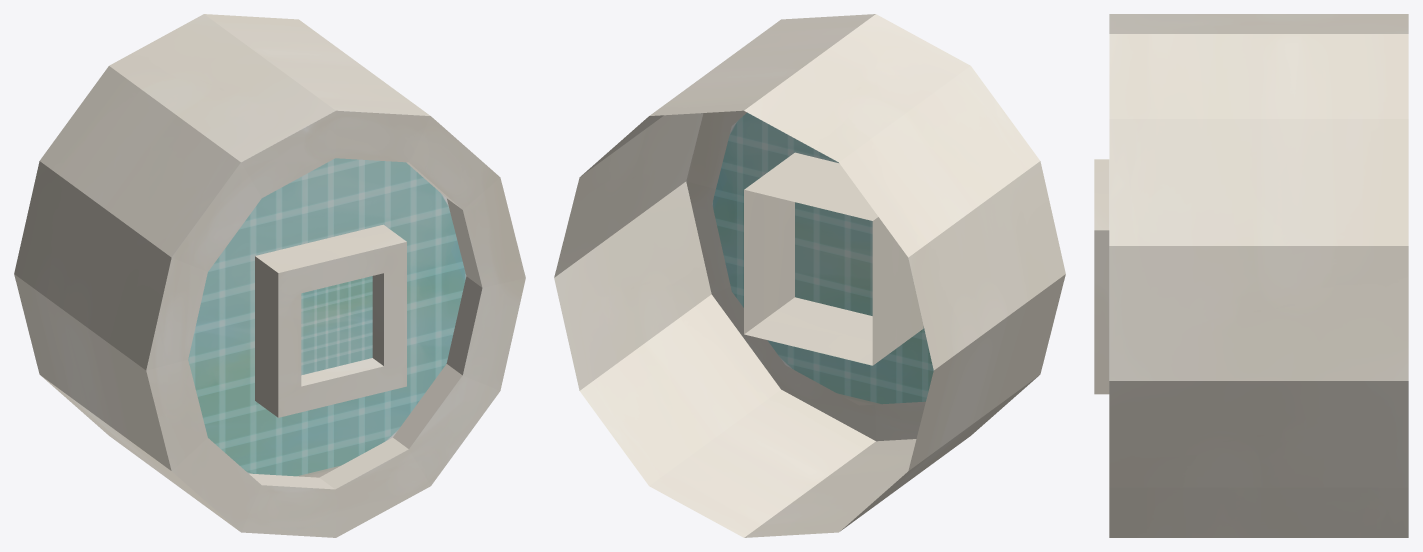
The model's file is Ornement_2.glb.
3 renders of one model, left to right at view 1: azimuth 30°, elevation 25°; view 2: azimuth 150°, elevation 25°; view 3: azimuth 270°, elevation 25°, orthographic. The views are drawn at different scales.
Visible parts, largest first — view 1: Ornement_2; view 2: Ornement_2; view 3: Ornement_2.
Boxes of the visible parts, left/top/right/bottom form: Ornement_2: left=14, top=14, right=525, bottom=537; Ornement_2: left=554, top=14, right=1065, bottom=537; Ornement_2: left=1094, top=14, right=1408, bottom=537.
Size of the model in its own units: 5.05 by 5.43 by 3.2.
Materials: 1 (1 with a texture image).
